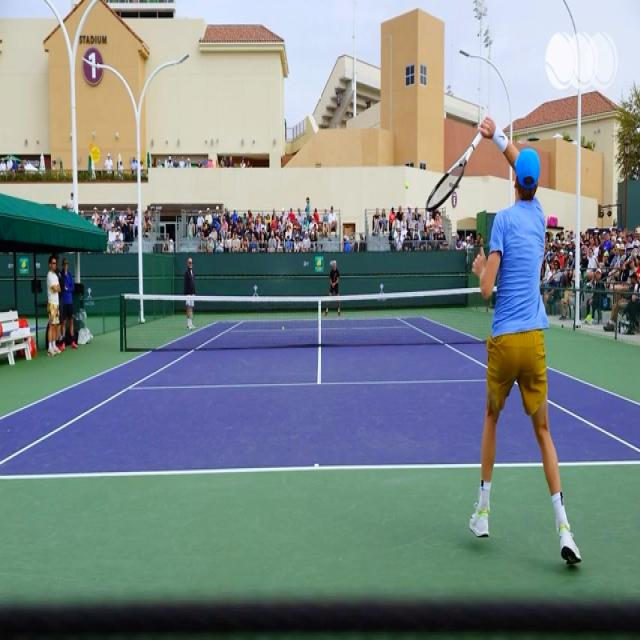forehand-finish: (424, 113, 586, 560)
